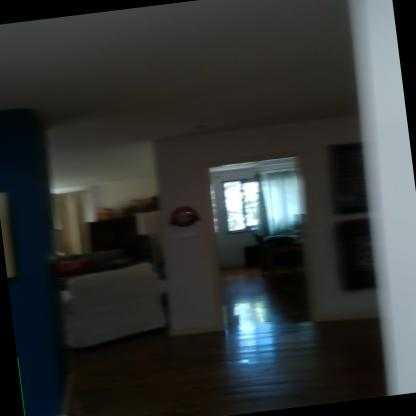open: (192, 146, 332, 346)
